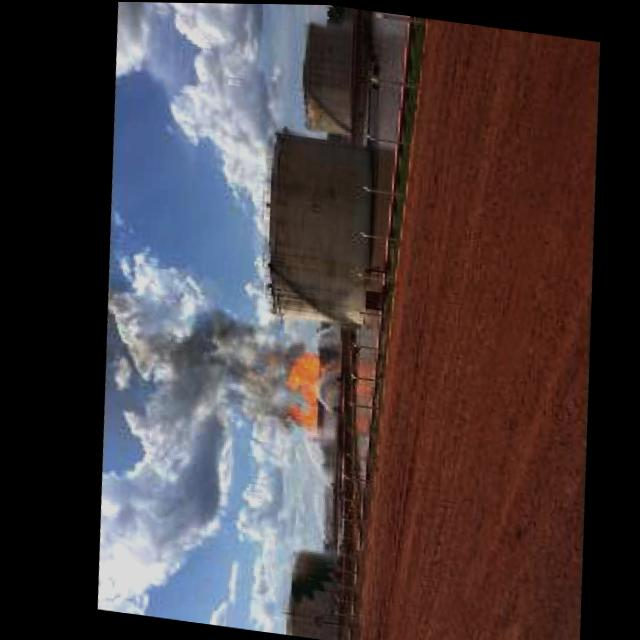Fire: (154, 303, 297, 425), (267, 349, 330, 430)
Smoke: (256, 343, 324, 436)
